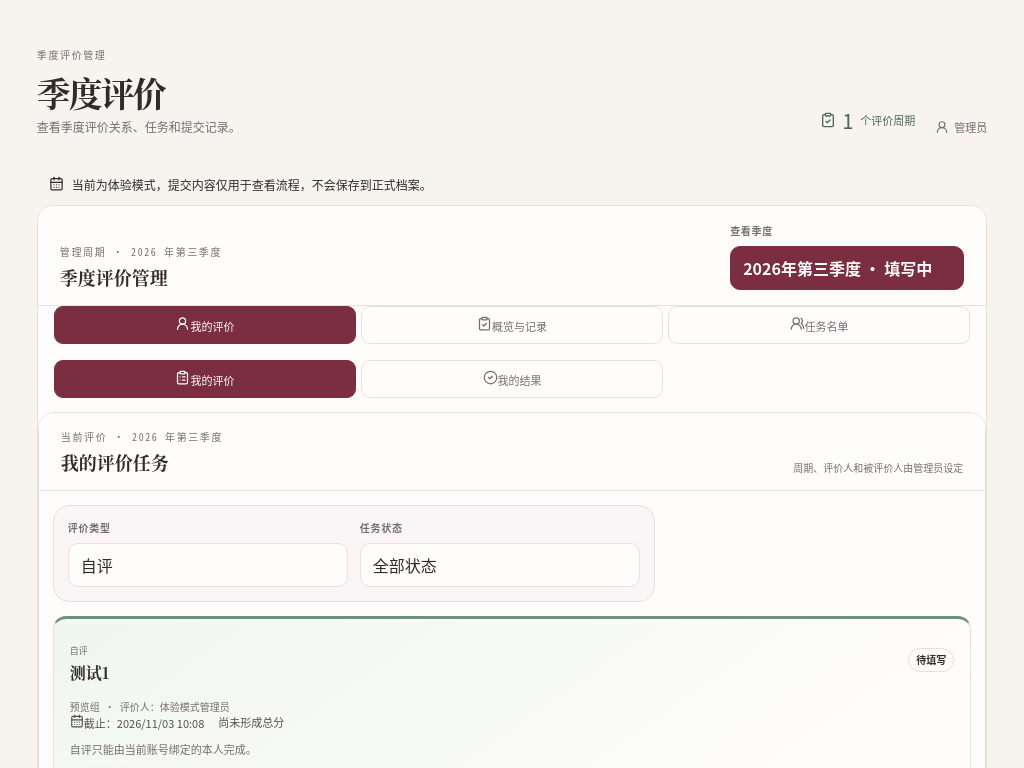
Test: QuarterlyAssessmentsPage › groups employee history by quarter and review type, then expands an individual score breakdown
The width and height of the screenshot is (1024, 768).
Click the button "概览与记录" at coordinates (512, 325), box [361,306,663,344]
(page scrolled)
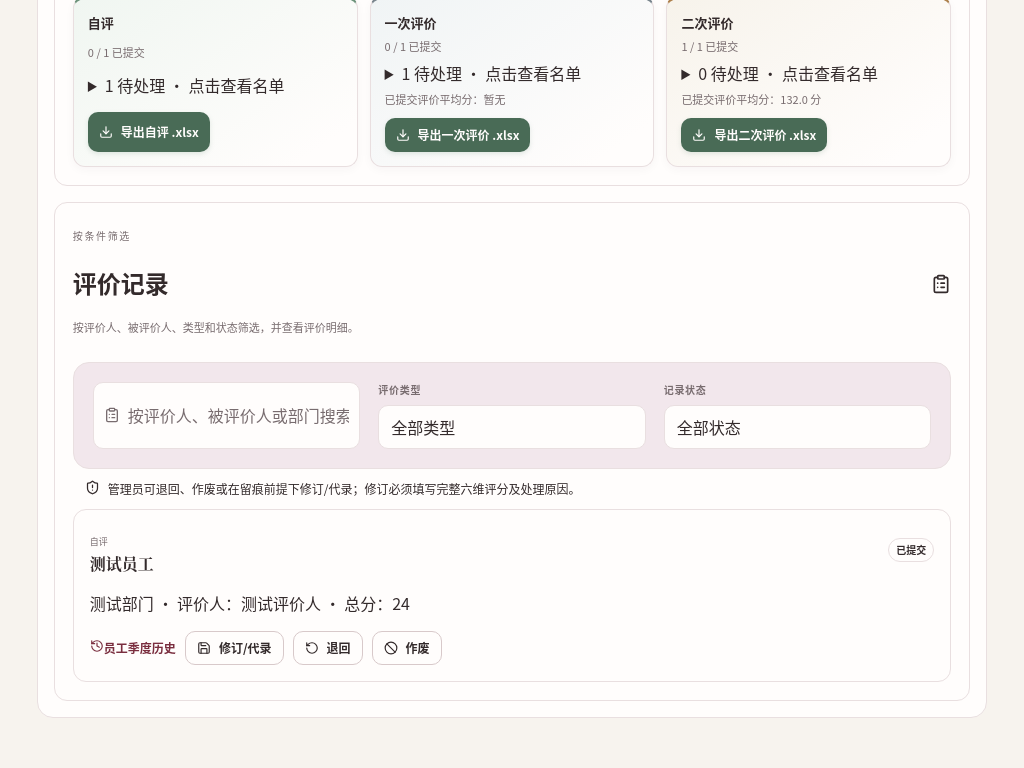
Check: the button "员工季度历史" is enabled
Click the button "员工季度历史" at coordinates (133, 648), box [90,630,176,664]
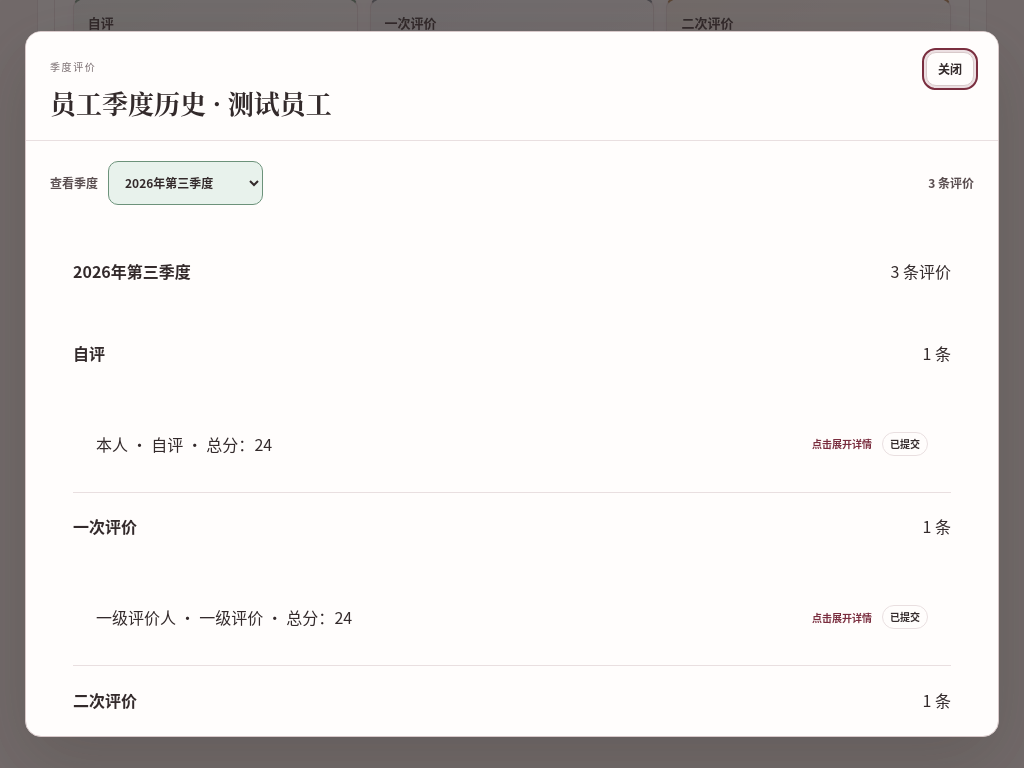
Check: the dialog shows "员工季度历史", box [50,84,206,121]
Check: the dropdown named "查看季度" shows "2026年第三季度", box [108,161,263,205]
Check: the dialog shows "3 条评价", box [928,174,974,191]
Click the heading "本人 · 自评 · 总分：24 点击展开详情 已提交" at coordinates (112, 444), box [96,432,928,456]
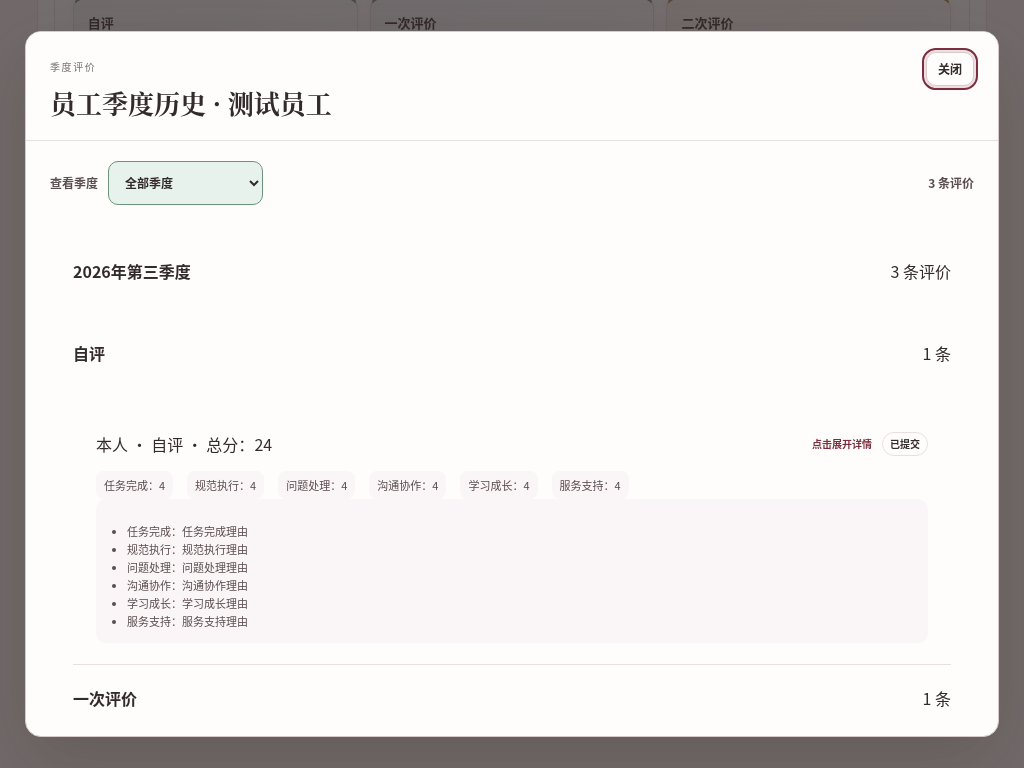
Check: the number of list items is 6, box [127,523,248,539]; [127,541,248,557]; [127,559,248,575]; [127,577,248,593]; [127,595,248,611]; [127,614,248,630]
Check: the element that starts with "· 总分：" shows "任务完成理由", box [182,523,248,539]
Check: the element that starts with "· 总分：" shows "服务支持理由", box [182,614,248,630]
Select "全部季度" in the dropdown named "查看季度" at coordinates (186, 183), box [108,161,263,205]
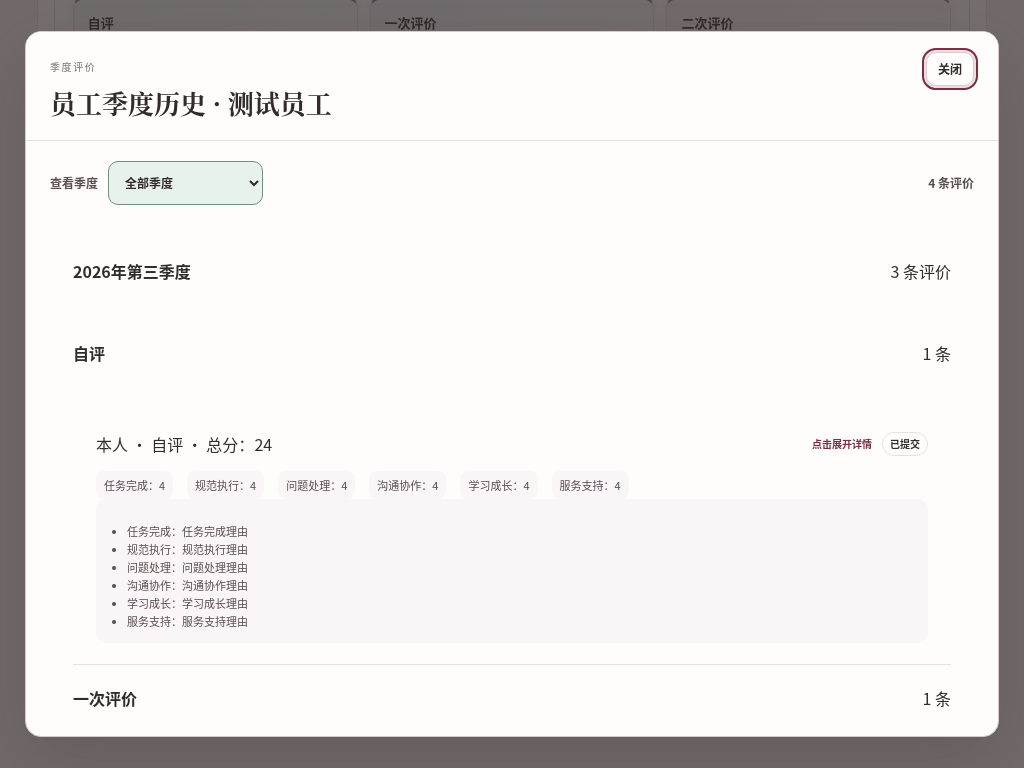
Check: the dialog shows "4 条评价", box [928,174,974,191]
Click the button "关闭" at coordinates (950, 69), box [926,52,974,86]
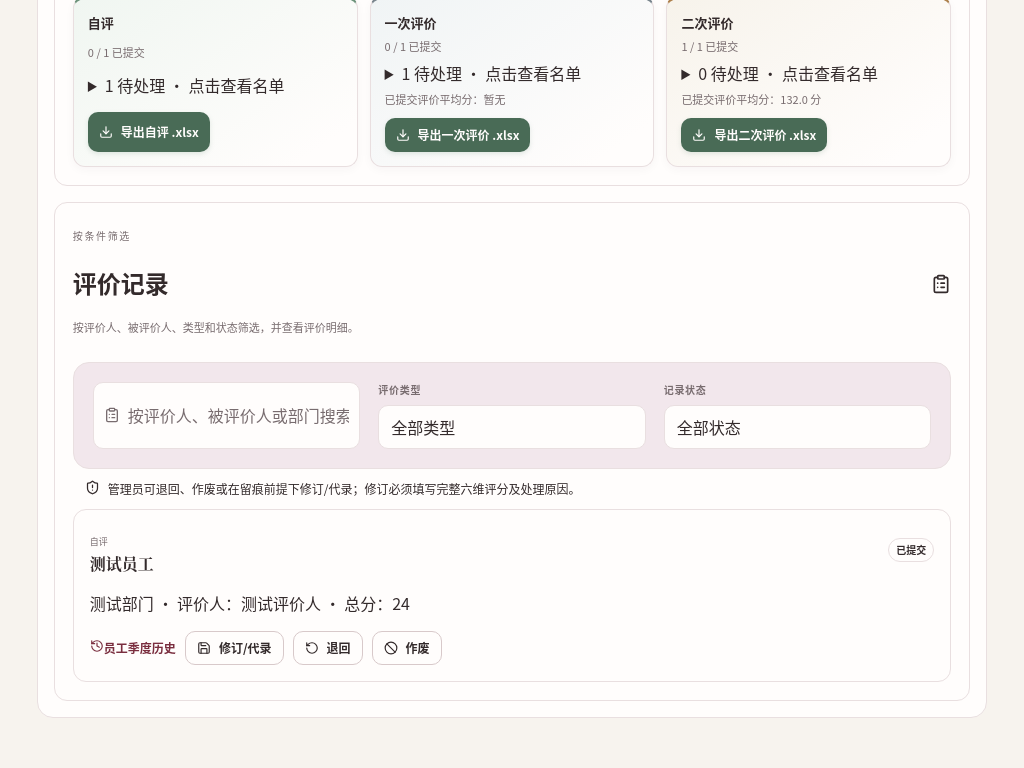
Check: the dialog is gone
